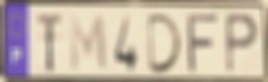4: (112, 13, 142, 75)
D: (146, 13, 185, 76)
F: (186, 12, 222, 76)
M: (67, 13, 109, 74)
P: (223, 11, 262, 78)
T: (35, 11, 64, 75)
